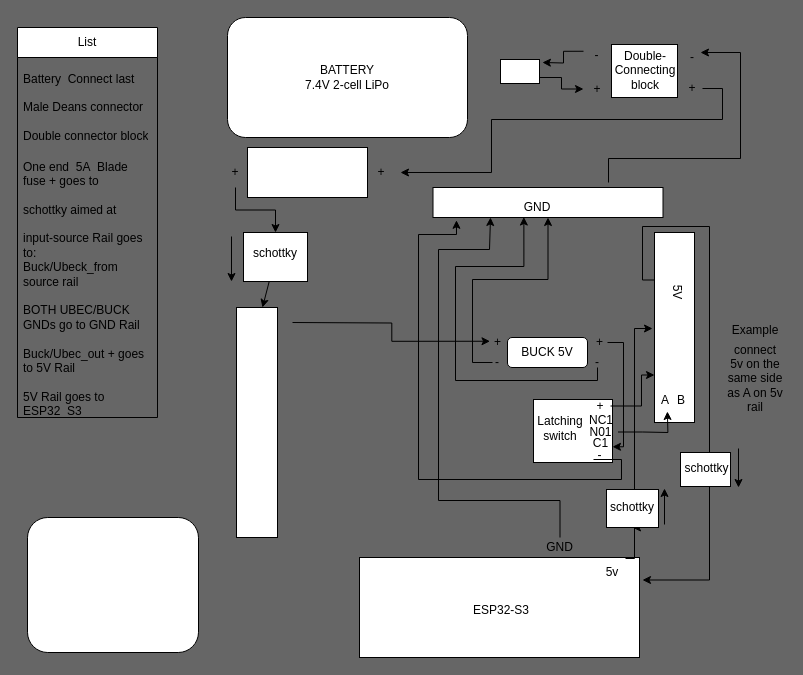
Image size: 803x675. Some labels were removed from this diagram. The centre of each missing label's shape, as x and y in pixels:
"5A Blade Fuse inline" goes at (x=307, y=172).
"@Input rail voltage depens on source battery, bench supply etc" goes at (x=112, y=584).
"Deans" goes at (x=520, y=71).
"input source rrail" goes at (x=257, y=422).
